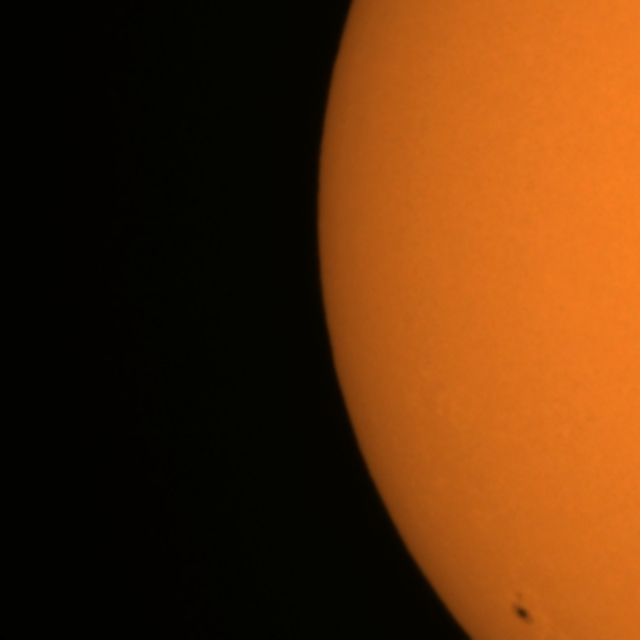sunspot: (509, 589, 536, 628)
